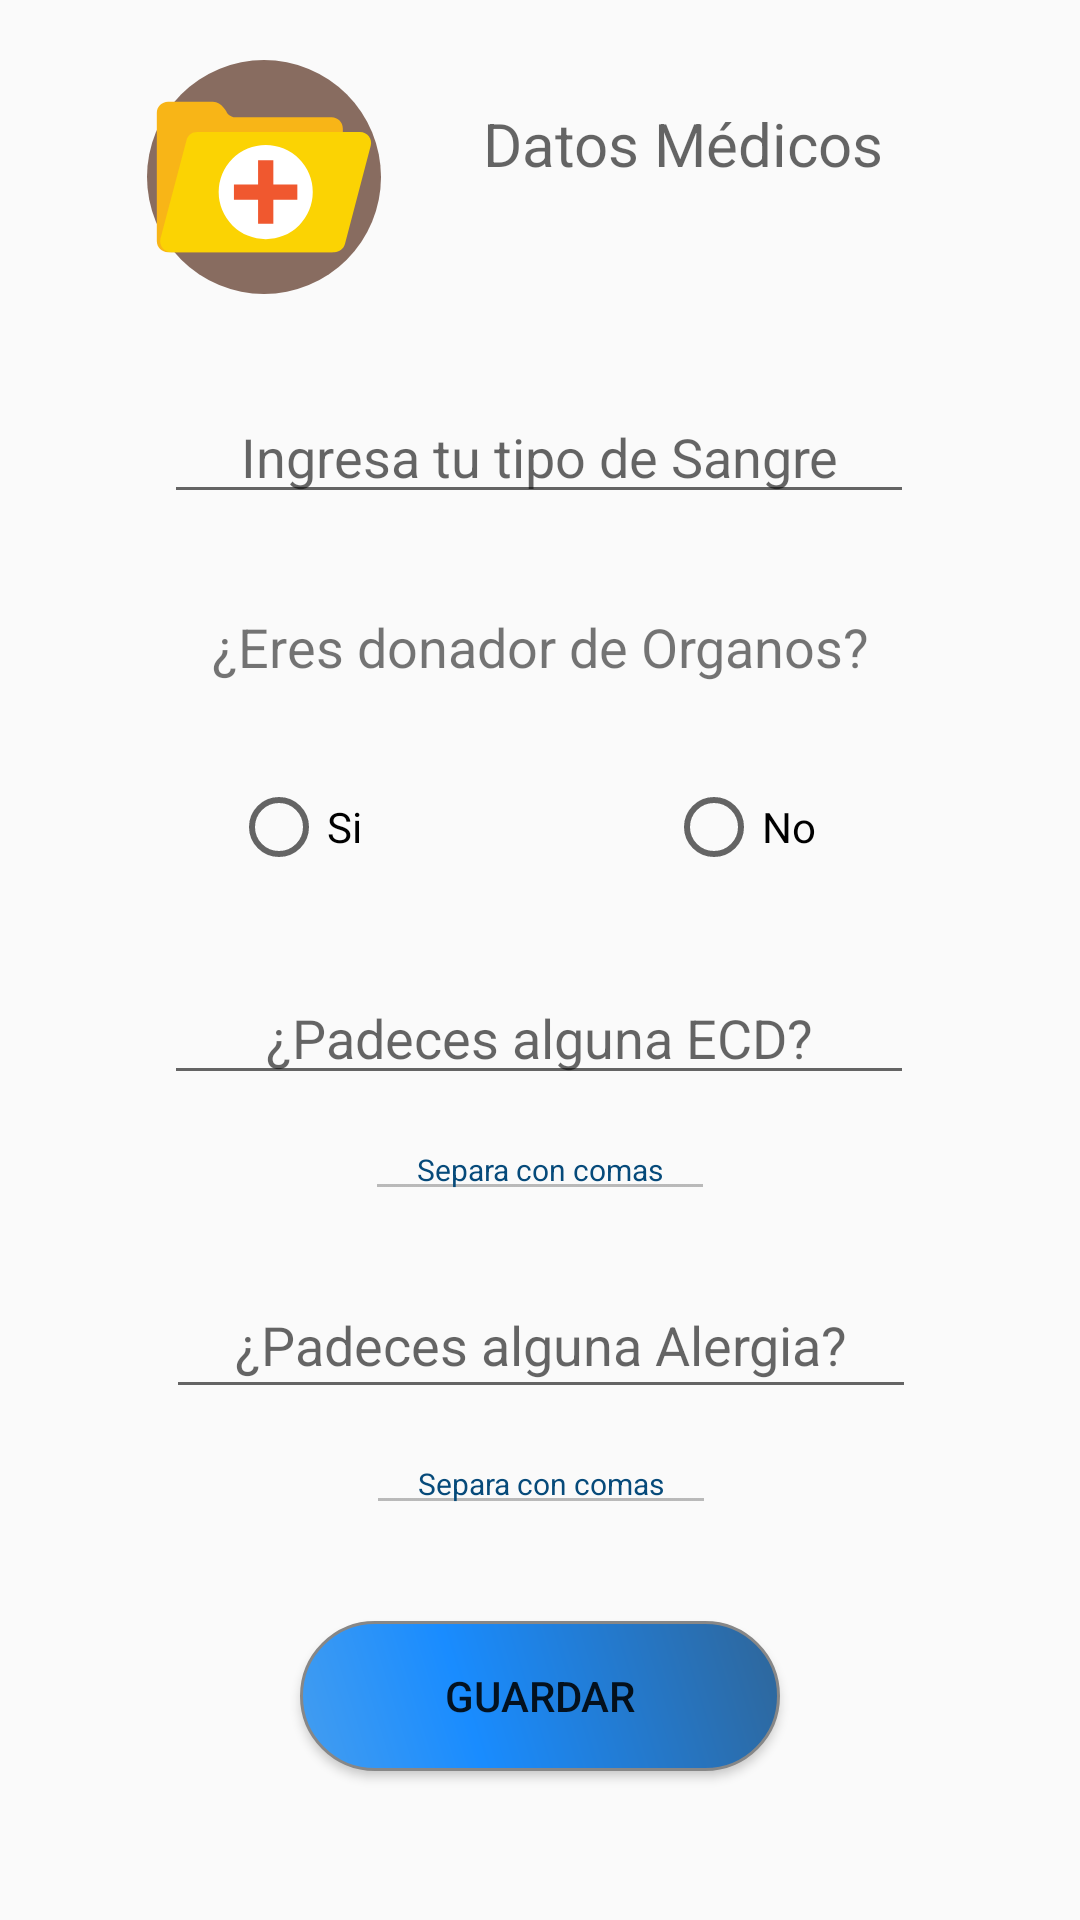

Named icons in this screenshot (1080px x 1920px) and their centers, (x,y):
carpeta: (264,177)
